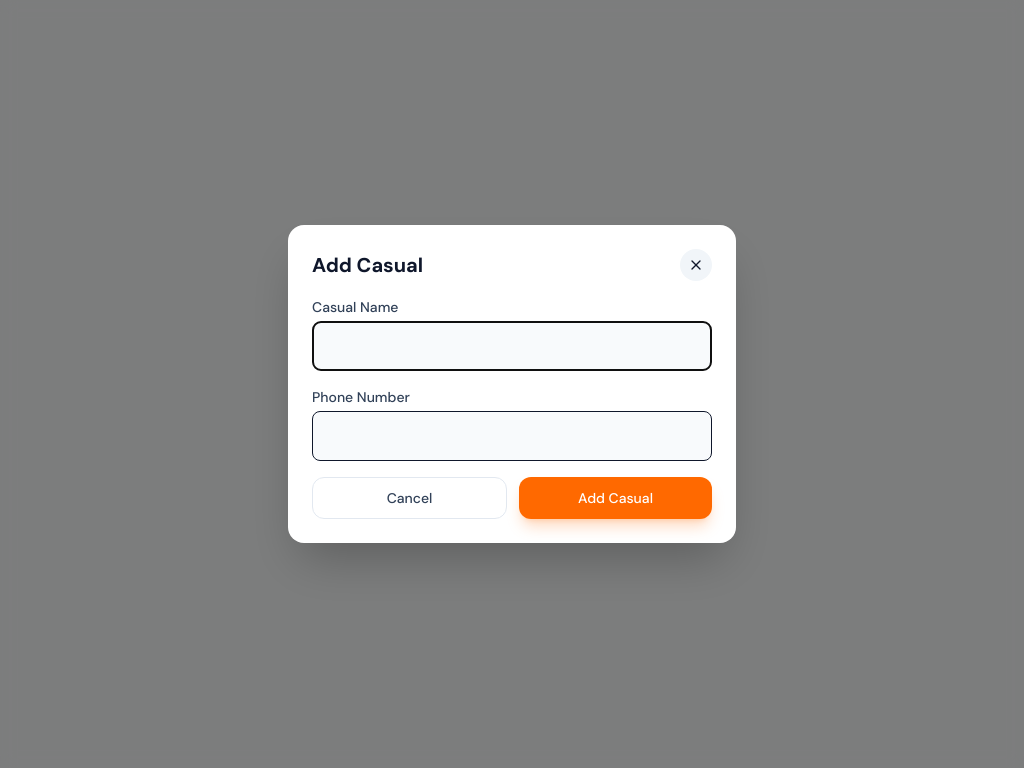
Test: AddCasualModal › validation › shows error when name has no letters
The image size is (1024, 768).
Type "123" into the field labelled "Casual Name". click: {"x": 512, "y": 346}
box: 312,321 -> 712,371
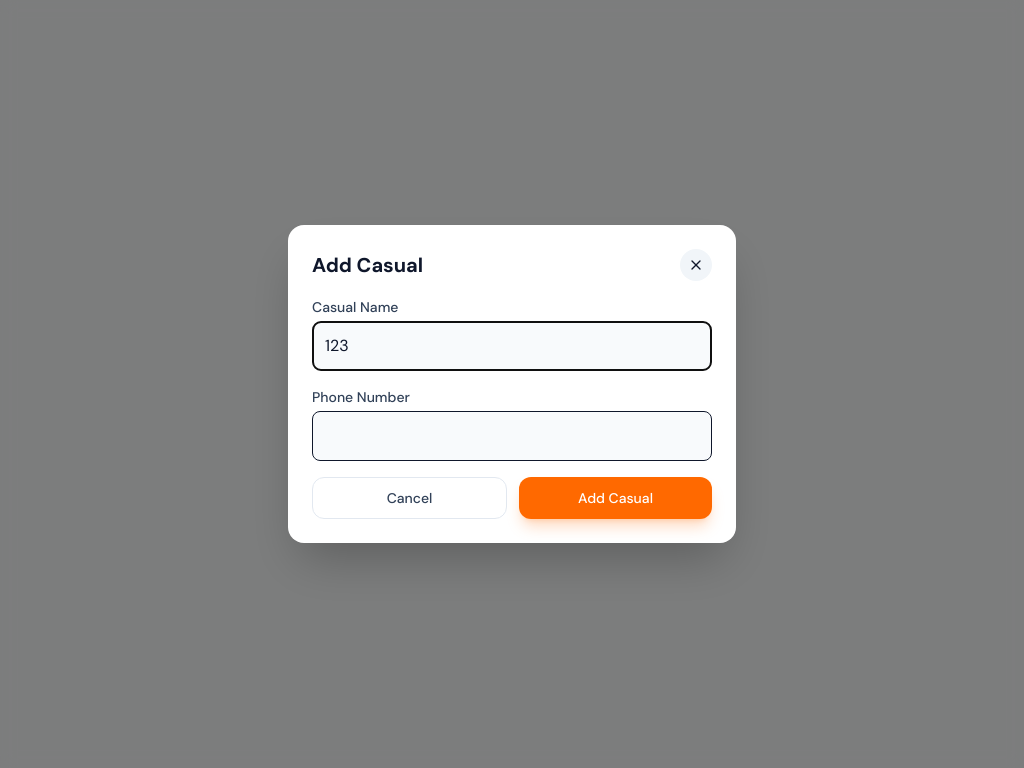
Type "0412345678" into the field labelled "Phone Number". click: {"x": 512, "y": 436}
box: 312,411 -> 712,461
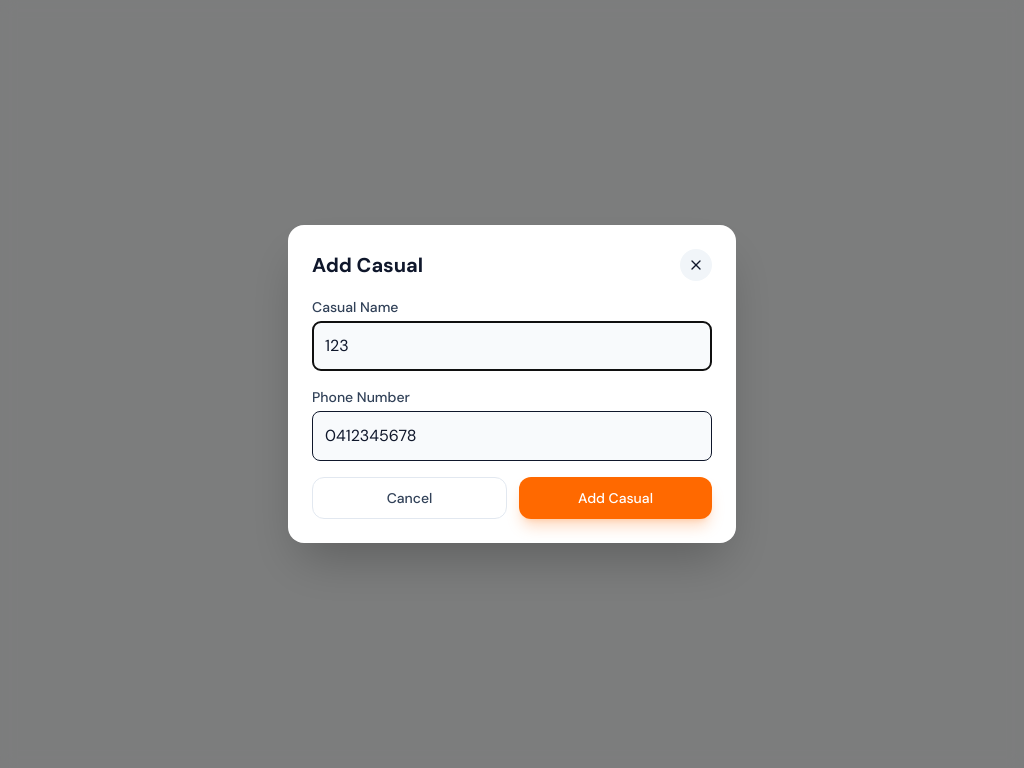
Click the button "Add Casual". click: {"x": 616, "y": 498}
box: 519,477 -> 712,519
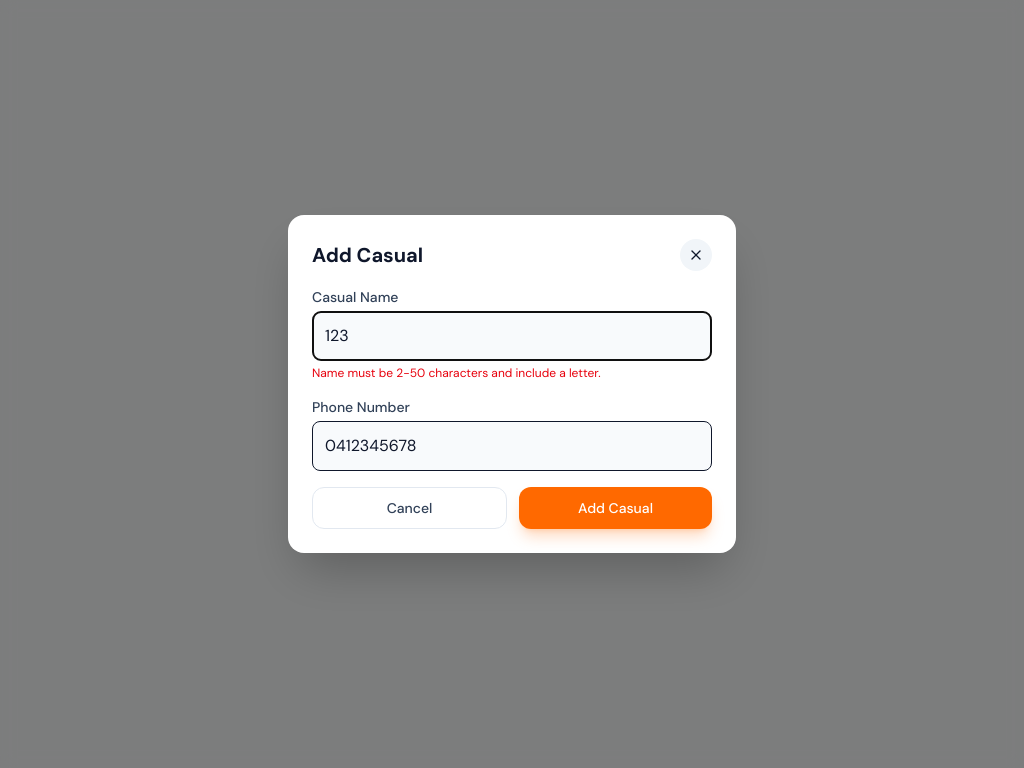
expect the text "Name must be 2-50 characters and include a letter." is shown: met, box 312,365 -> 601,381
